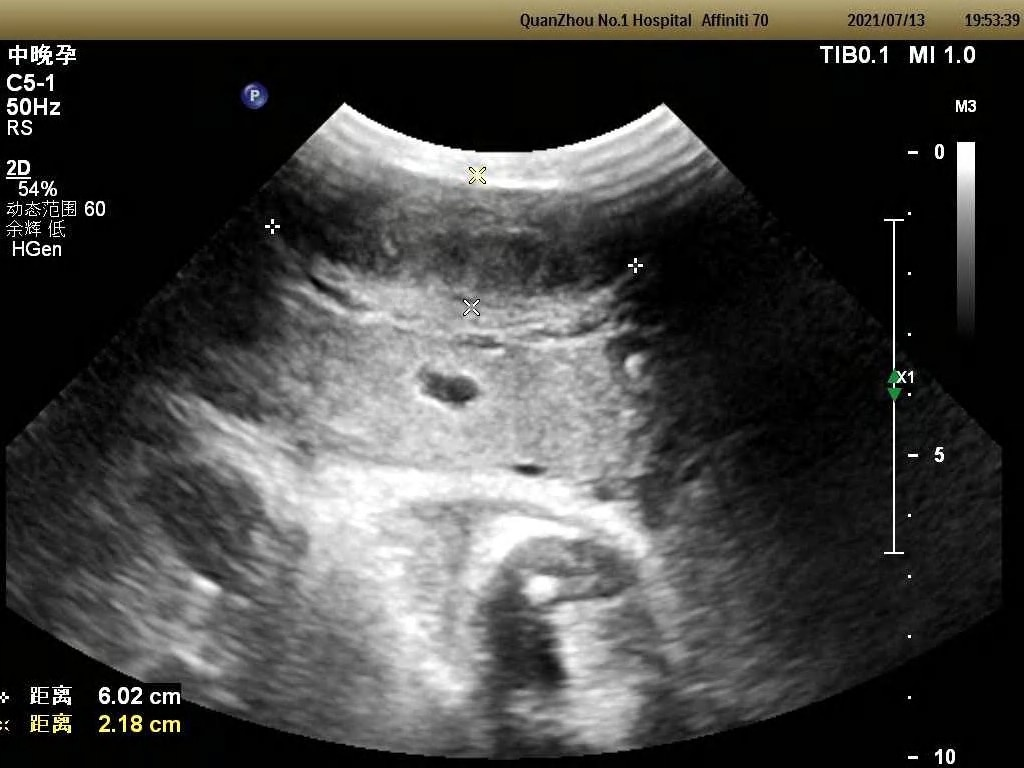肌瘤: (312, 178, 633, 293)
